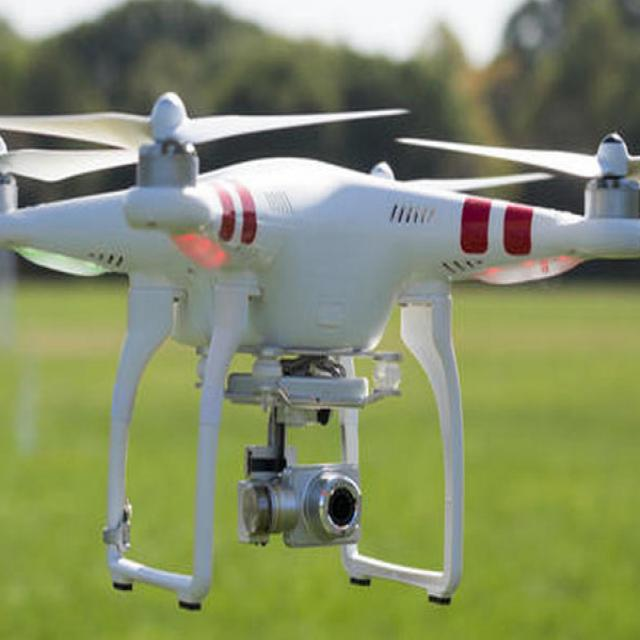drone: (0, 69, 640, 493)
